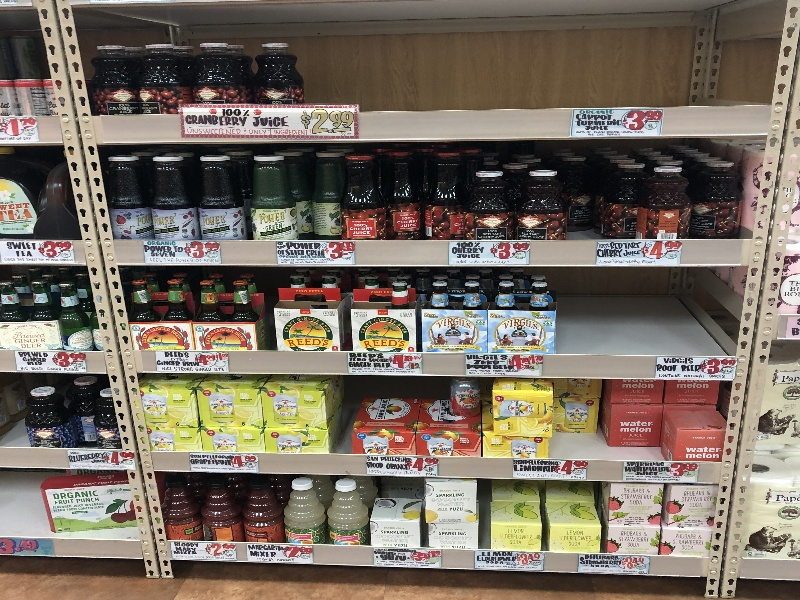void: (295, 19, 783, 108), (557, 273, 740, 359)
